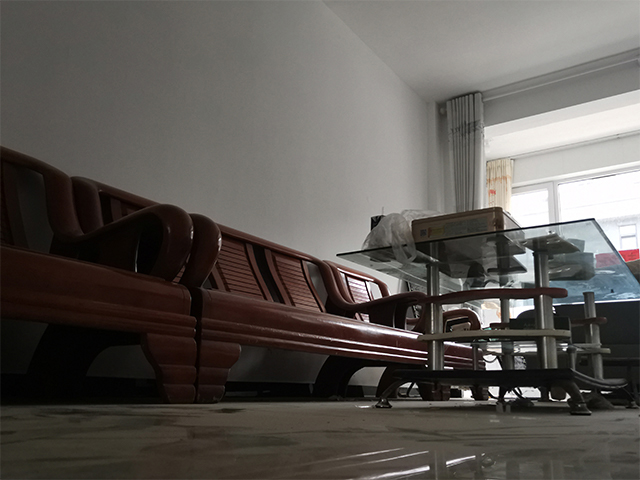curtain: (445, 88, 485, 212)
stool: (335, 216, 640, 410), (1, 152, 190, 405), (202, 211, 423, 398)
